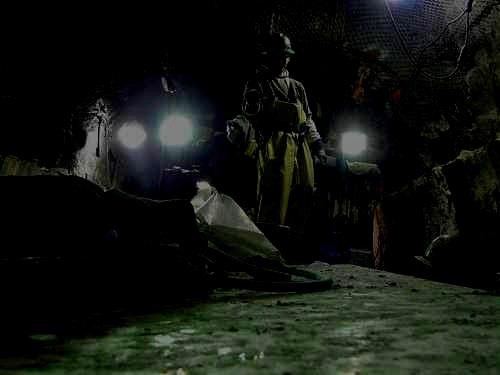helmet: (260, 32, 296, 71)
